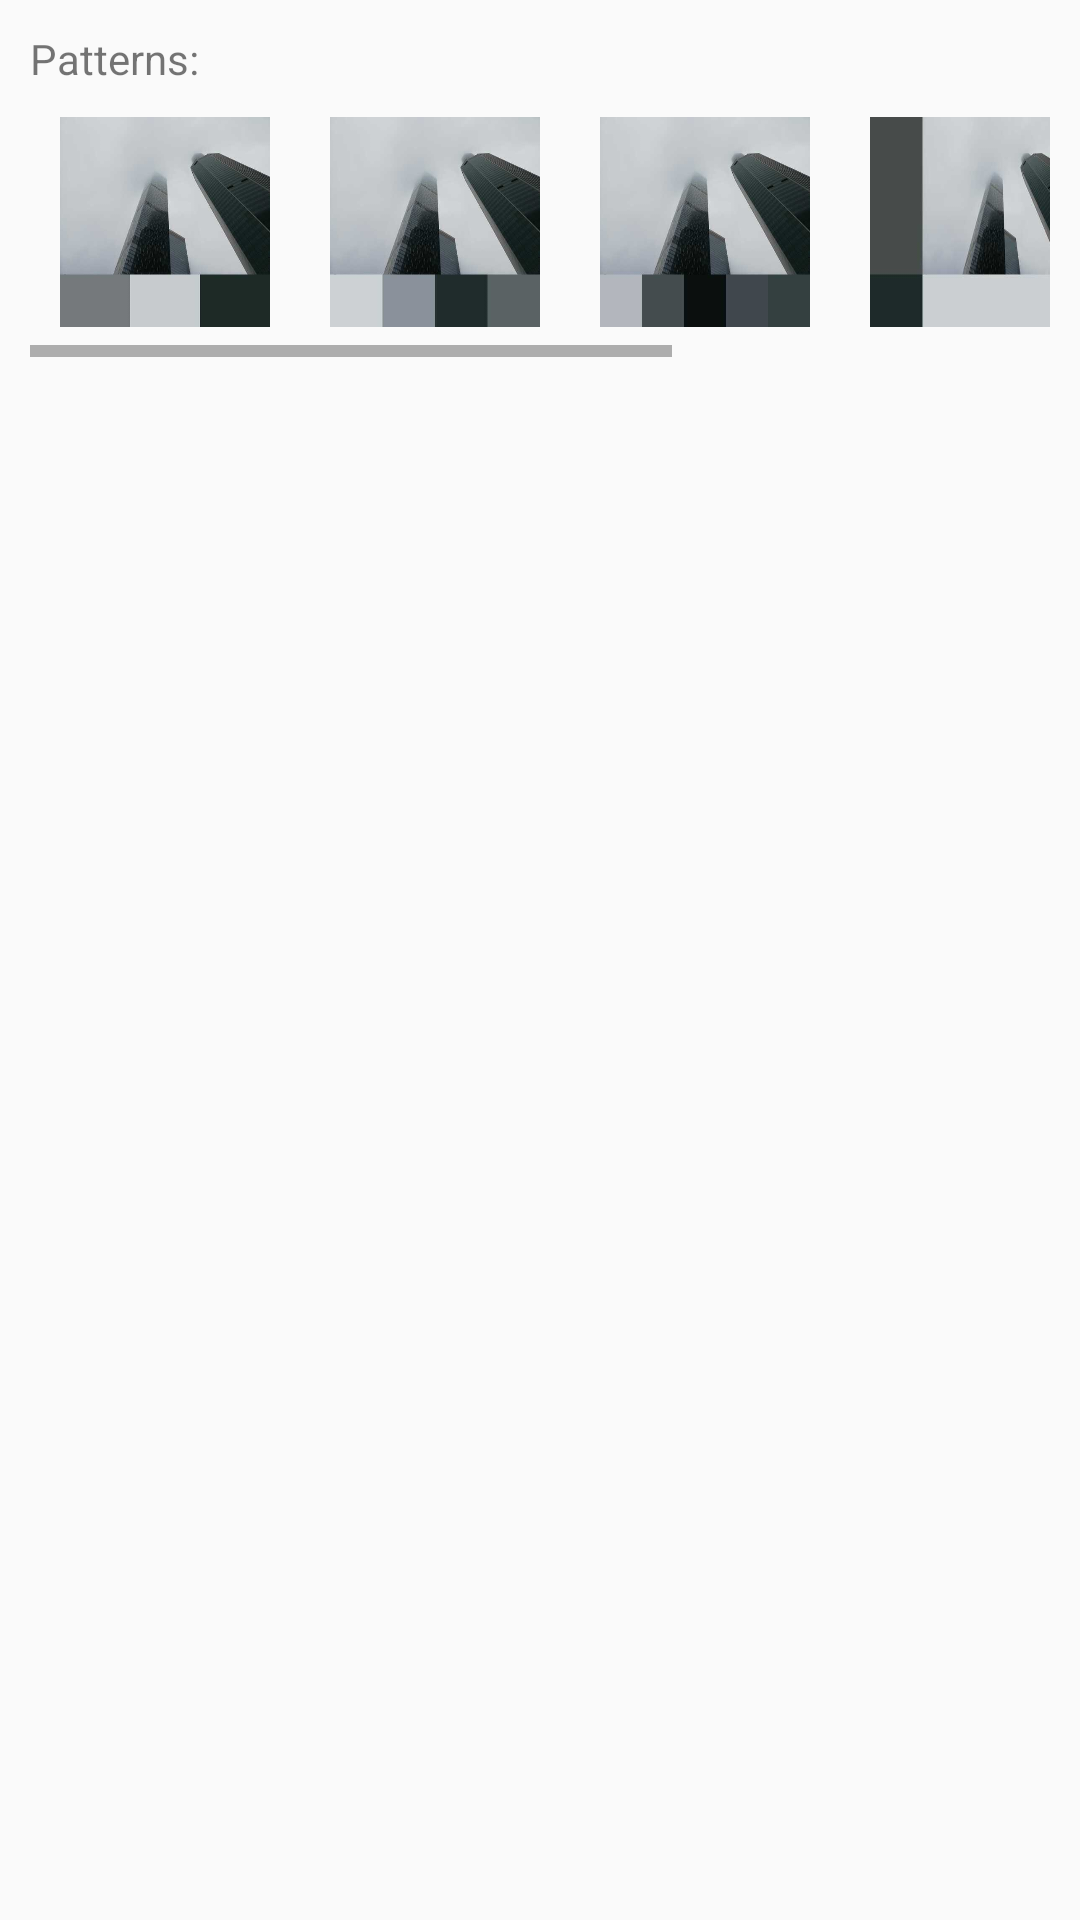

Point at icon controls on the screen. Image size 1080 × 1920, points as point (x, y).
bottom polyptych: point (435, 222), point (705, 222)
bottom triptych: point (165, 222)
